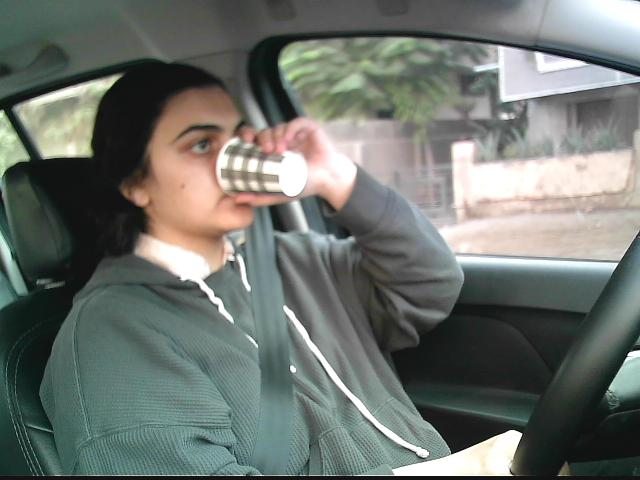Drinking: (212, 127, 313, 209)
